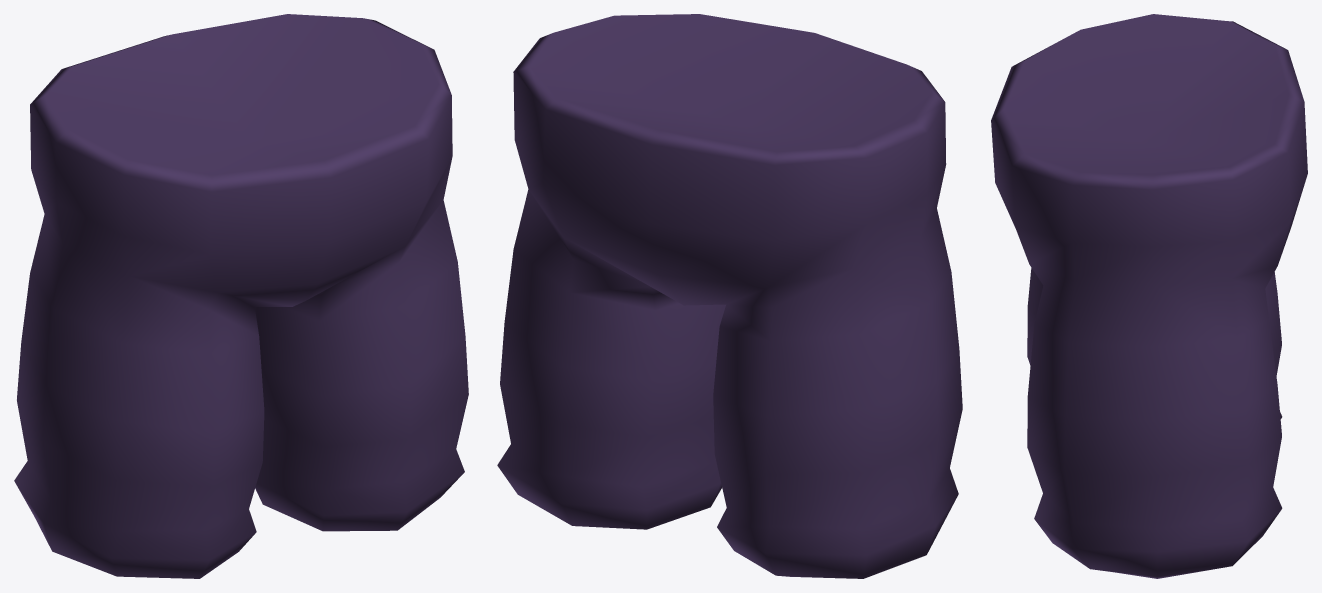
Rendered from Bottom_4.fbx.
The picture shows the model from 3 angles, left to right: view 1: azimuth 30°, elevation 25°; view 2: azimuth 150°, elevation 25°; view 3: azimuth 270°, elevation 25°; orthographic projection. The views are drawn at different scales.
Visible parts, largest first — view 1: Bottom_4; view 2: Bottom_4; view 3: Bottom_4.
Part boxes in pixels (x1,y1,x2,y2): Bottom_4: (14, 14, 468, 578); Bottom_4: (497, 14, 962, 578); Bottom_4: (991, 14, 1307, 578).
Bounding box in the file's own units: 40.89 × 42.48 × 29.68.
